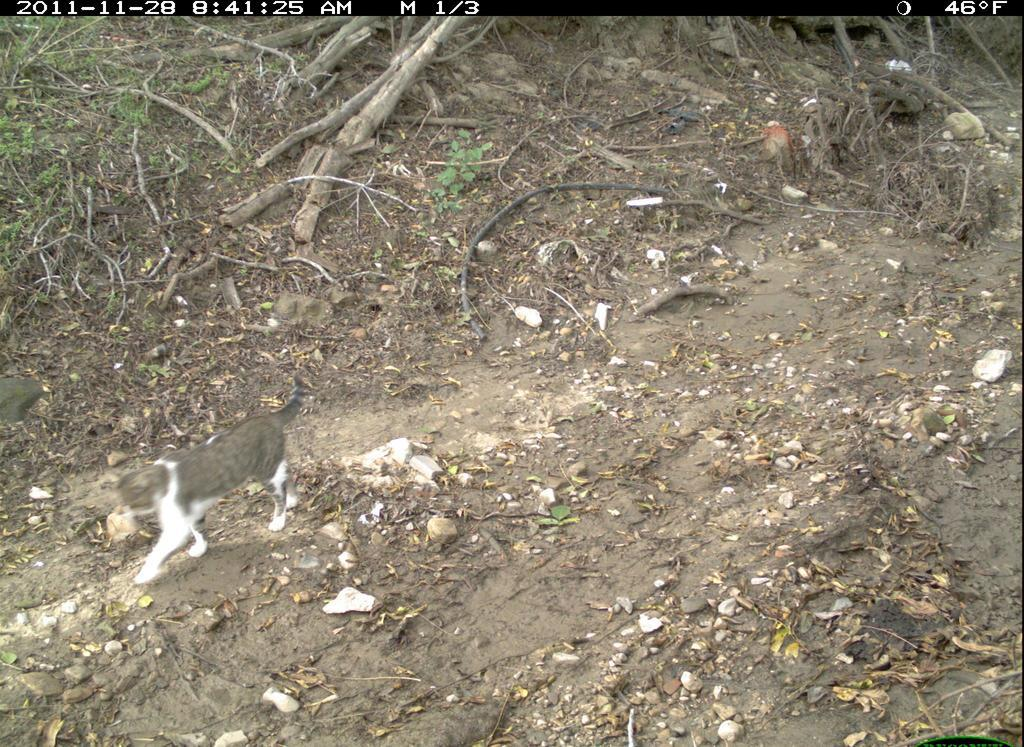cat: (62, 363, 350, 598)
